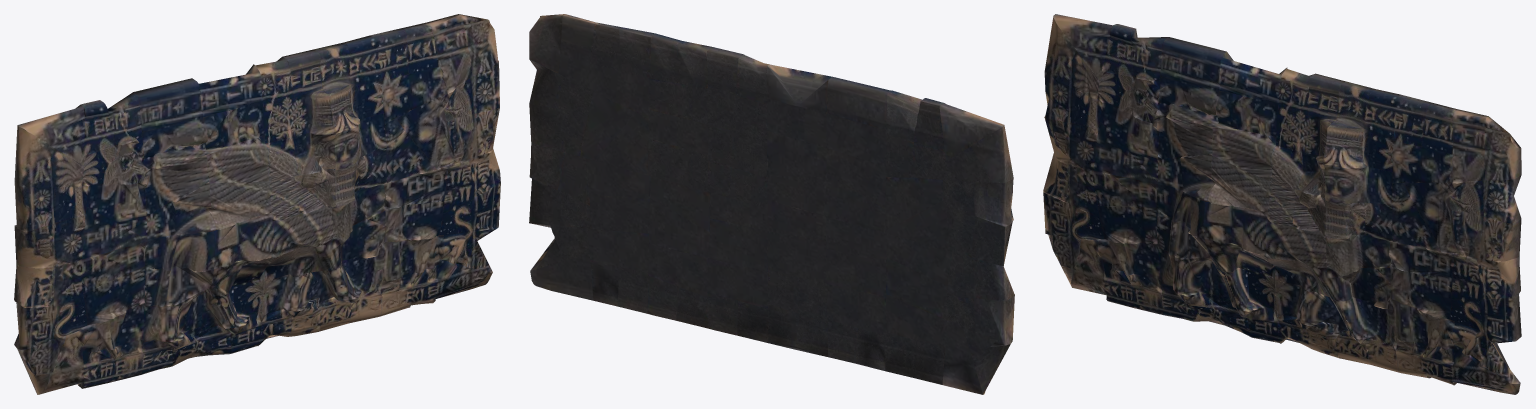
File: babylon_lamassu_relief_tile.glb
3 views of the same model, side by side, from view 1: azimuth 30°, elevation 25°; view 2: azimuth 150°, elevation 25°; view 3: azimuth 330°, elevation 25° (orthographic).
Parts seen in each view (by area): view 1: mesh_node; view 2: mesh_node; view 3: mesh_node.
Boxes of the visible parts, x1=… form: mesh_node: x1=14, y1=14, x2=500, y2=394; mesh_node: x1=529, y1=14, x2=1014, y2=394; mesh_node: x1=1043, y1=14, x2=1521, y2=394.
Size of the model in its own units: 1.9 by 1.06 by 0.1607.
Materials: 1 (1 with a texture image).
